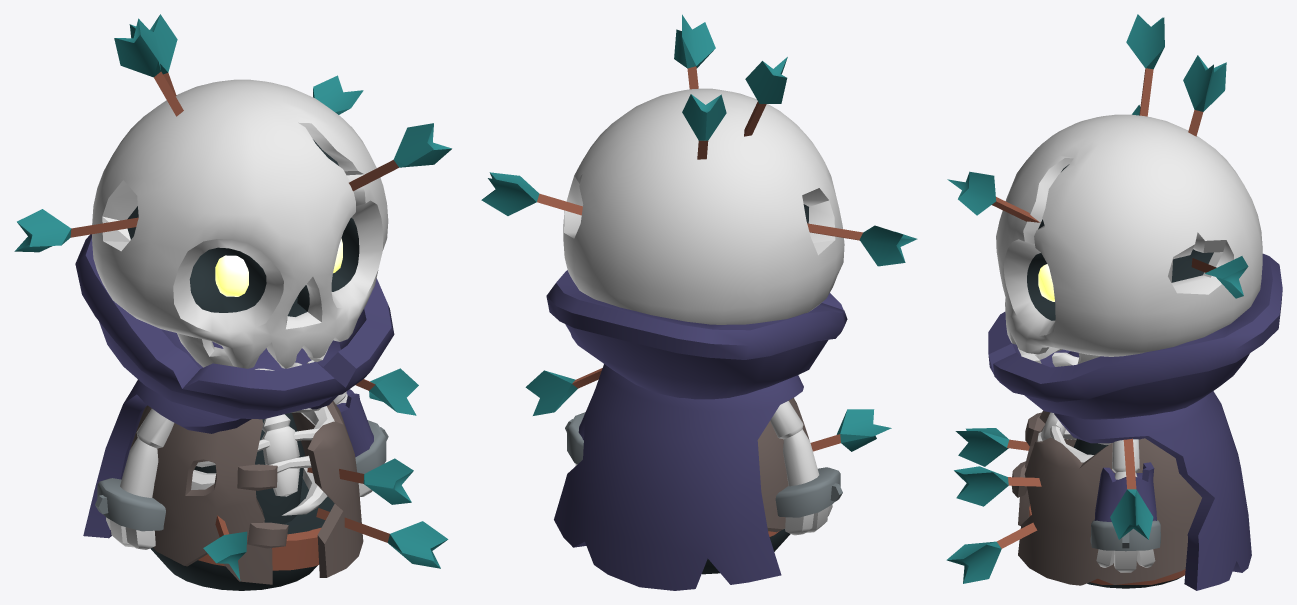
Rendered from character_skeleton_mage_broken.gltf.
3 renders of one model, left to right at view 1: azimuth 30°, elevation 25°; view 2: azimuth 150°, elevation 25°; view 3: azimuth 270°, elevation 25°, orthographic. The views are drawn at different scales.
Visible parts, largest first — view 1: character_skeleton_mage_head_broken, character_skeleton_mage_body_broken, character_skeleton_mage_cowl_broken, character_skeleton_mage_armRight_broken, character_skeleton_mage_cloak_broken, character_skeleton_mage_armLeft_broken, character_skeleton_mage_eyes_broken, character_skeleton_mage_jaw_broken; view 2: character_skeleton_mage_head_broken, character_skeleton_mage_cloak_broken, character_skeleton_mage_cowl_broken, character_skeleton_mage_armRight_broken, character_skeleton_mage_body_broken, character_skeleton_mage_armLeft_broken; view 3: character_skeleton_mage_head_broken, character_skeleton_mage_body_broken, character_skeleton_mage_cowl_broken, character_skeleton_mage_cloak_broken, character_skeleton_mage_armLeft_broken, character_skeleton_mage_jaw_broken, character_skeleton_mage_eyes_broken.
Boxes of the visible parts, x1,y1,x2,y2 form: character_skeleton_mage_head_broken: (14,14,451,368); character_skeleton_mage_body_broken: (130,401,448,590); character_skeleton_mage_cowl_broken: (75,234,394,419); character_skeleton_mage_armRight_broken: (95,408,174,549); character_skeleton_mage_cloak_broken: (83,341,337,538); character_skeleton_mage_armLeft_broken: (333,368,418,496); character_skeleton_mage_eyes_broken: (215,238,342,296); character_skeleton_mage_jaw_broken: (177,333,327,370); character_skeleton_mage_head_broken: (481,14,917,324); character_skeleton_mage_cloak_broken: (554,364,803,590); character_skeleton_mage_cowl_broken: (546,270,847,399); character_skeleton_mage_armRight_broken: (770,401,842,535); character_skeleton_mage_body_broken: (702,398,891,574); character_skeleton_mage_armLeft_broken: (525,368,602,465); character_skeleton_mage_head_broken: (947,14,1262,356); character_skeleton_mage_body_broken: (946,410,1201,588); character_skeleton_mage_cowl_broken: (988,253,1282,419); character_skeleton_mage_cloak_broken: (1054,351,1251,590); character_skeleton_mage_armLeft_broken: (1090,438,1160,572); character_skeleton_mage_jaw_broken: (1017,346,1100,366); character_skeleton_mage_eyes_broken: (1038,264,1054,301).
Bounding box in the file's own units: 1.48 × 1.91 × 1.16.
